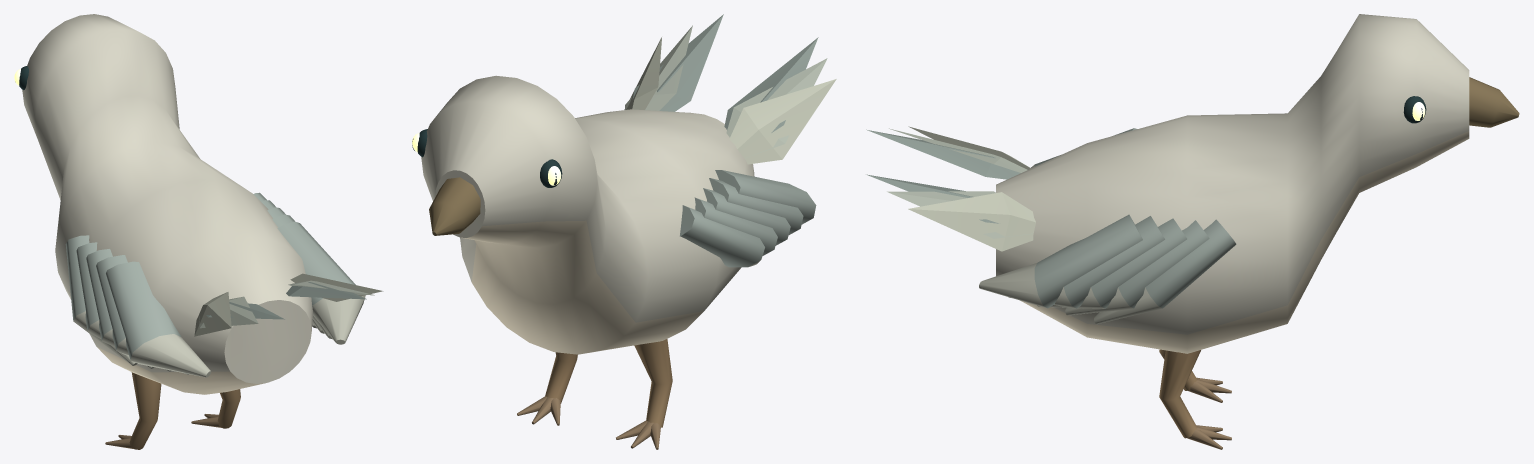
Rendered from snow_prey.glb.
3 renders of one model, left to right at view 1: azimuth 30°, elevation 25°; view 2: azimuth 150°, elevation 25°; view 3: azimuth 270°, elevation 25°, orthographic. The views are drawn at different scales.
Visible parts, largest first — view 1: Body, Walk00, Walk01; view 2: Body, Walk00, Walk01; view 3: Body, Walk01, Walk00.
Boxes of the visible parts, x1,y1,x2,y2 form: Body: [14, 14, 383, 394]; Walk00: [105, 372, 161, 449]; Walk01: [191, 389, 240, 428]; Body: [412, 14, 836, 354]; Walk00: [616, 339, 672, 449]; Walk01: [517, 352, 577, 425]; Body: [866, 14, 1519, 353]; Walk01: [1159, 350, 1231, 449]; Walk00: [1159, 349, 1231, 402].
Size of the model in its own units: 0.6604 by 0.9119 by 1.37.
2 materials, 1 textured.
